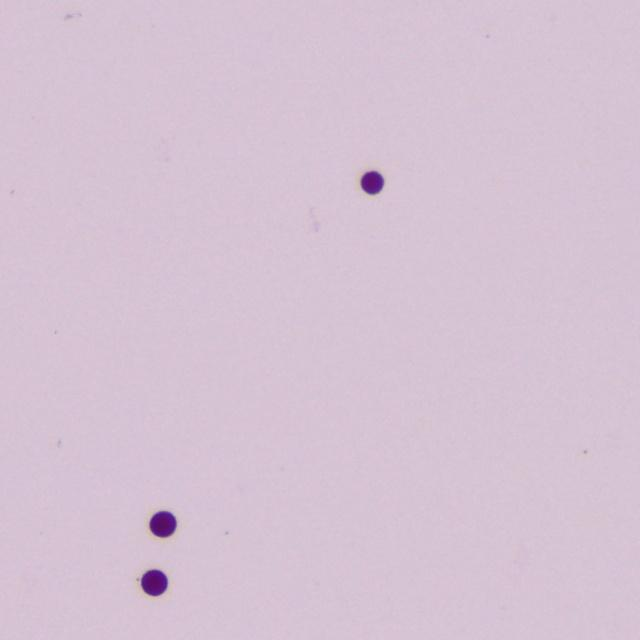viable: (150, 511, 176, 537), (142, 570, 167, 595), (361, 171, 383, 194)
